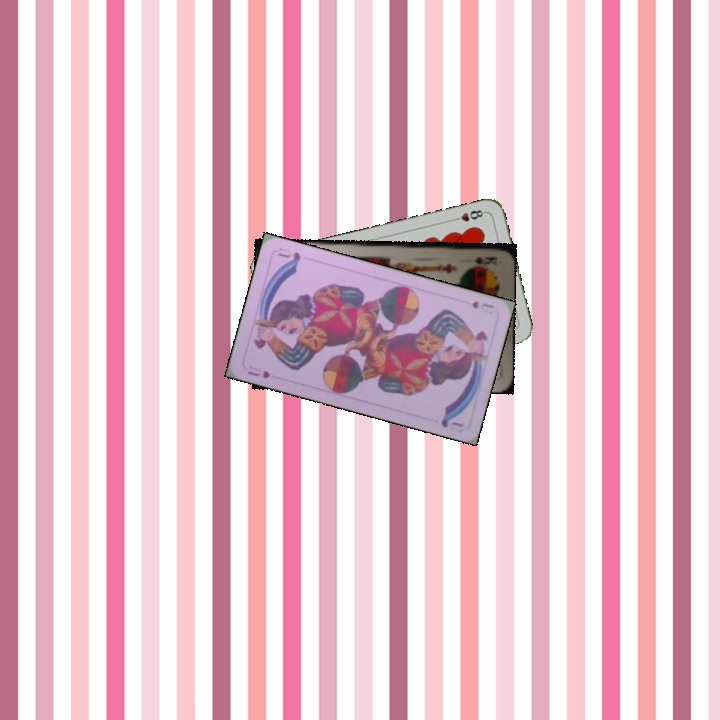H8: (448, 206, 488, 224)
SK: (471, 252, 499, 267)
SU: (243, 362, 273, 381), (468, 297, 497, 315)
